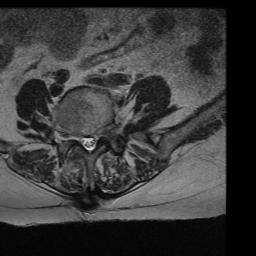CCS_stenosis: (85, 128, 92, 159)
LFS_normal: (99, 120, 107, 144)
LLS_stenosis: (91, 128, 99, 154)
RFS_stenosis: (70, 125, 78, 150)
RLS_stenosis: (78, 129, 86, 154)
